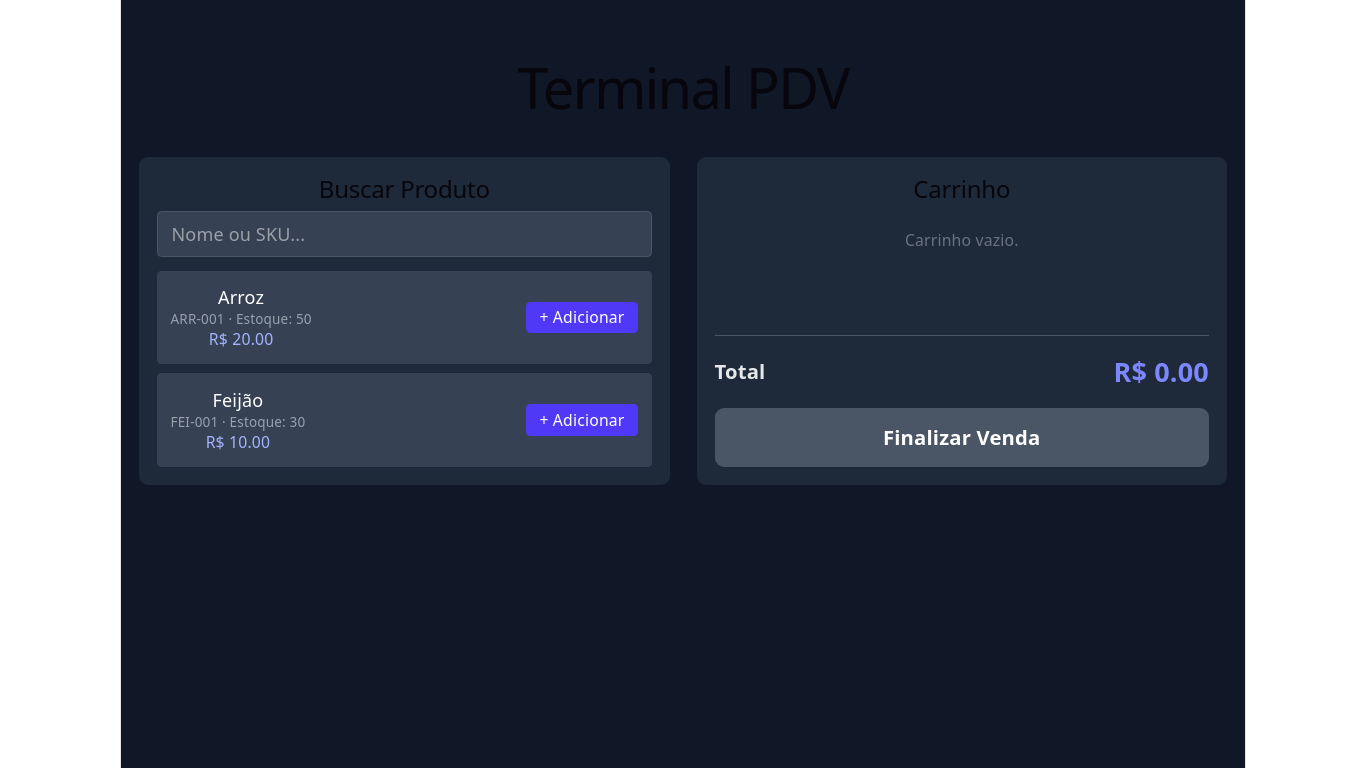
PdvPage › increases quantity when adding same product twice
expect the text "Arroz" is shown: met, box [218, 285, 264, 309]
Click the button with aria-label "Adicionar Arroz ao carrinho": (582,317) [526, 302, 638, 333]
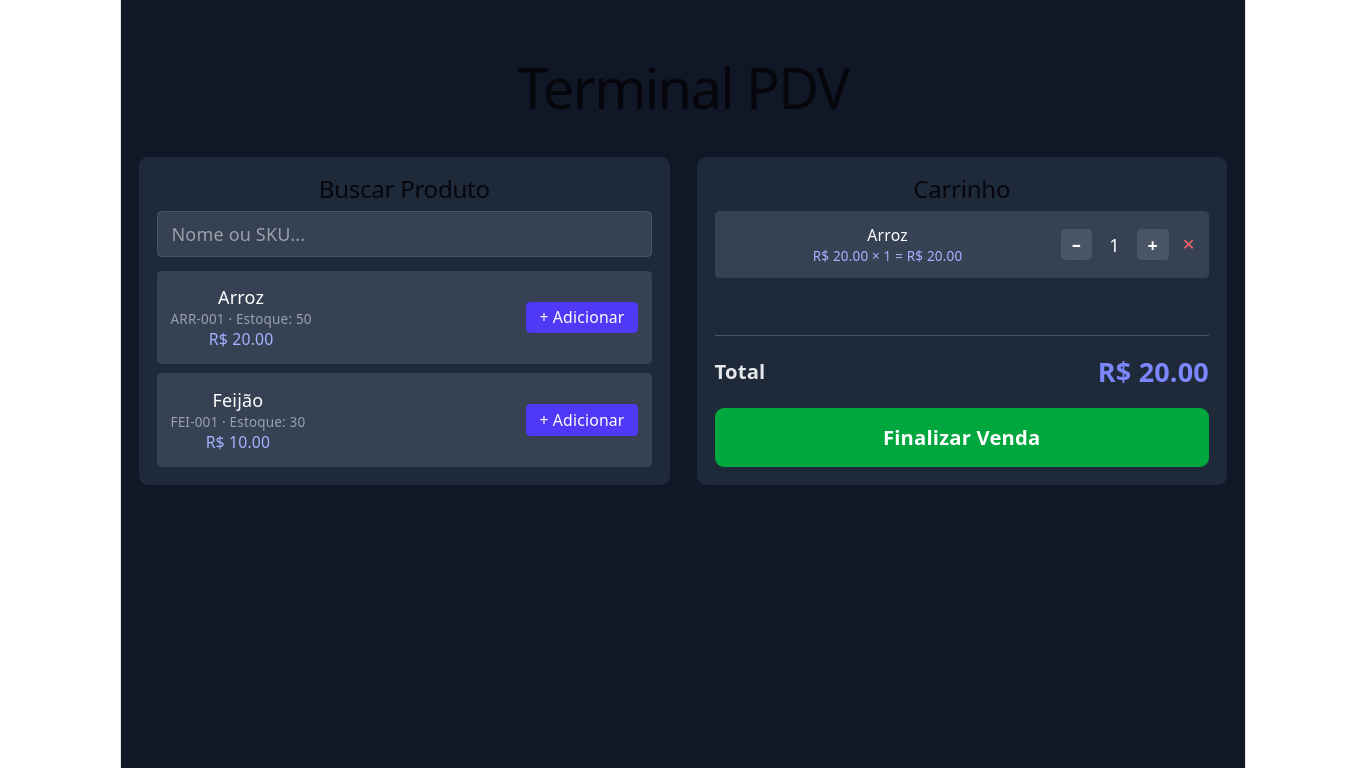
Click the button with aria-label "Adicionar Arroz ao carrinho": (582,317) [526, 302, 638, 333]
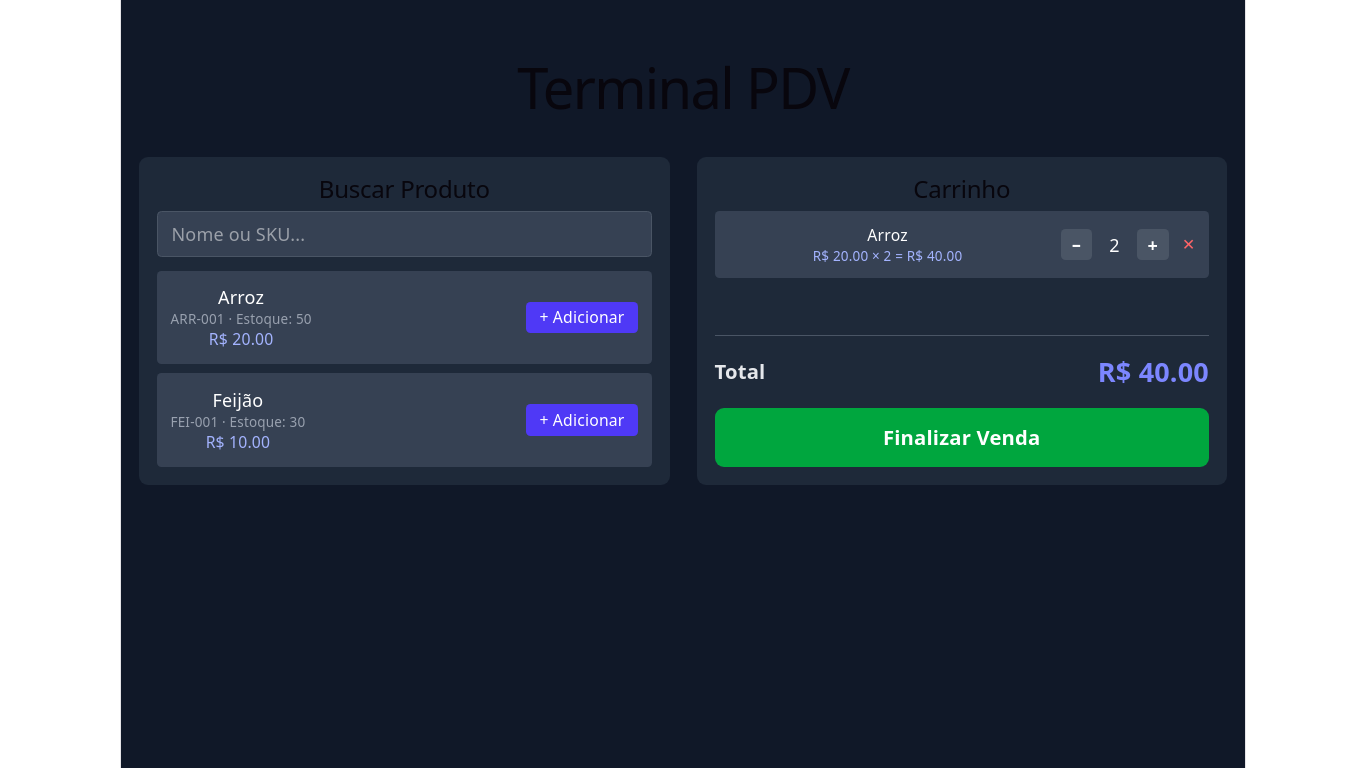
expect the text "2" is shown: met, box [1109, 233, 1120, 257]
